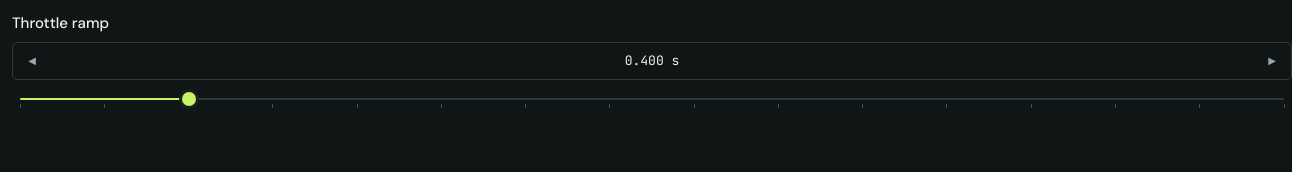
Test: LeverWidget › Esc reverts an edit
Click the button with test id "lever-value-throttle_ramp" at {"x": 652, "y": 61}, box [51, 47, 1253, 75]
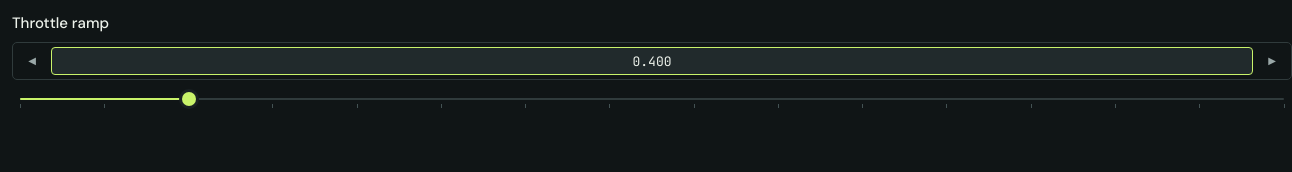
Replace the text in the field with test id "lever-input-throttle_ramp" with "2.0" at {"x": 652, "y": 61}, box [51, 47, 1253, 75]
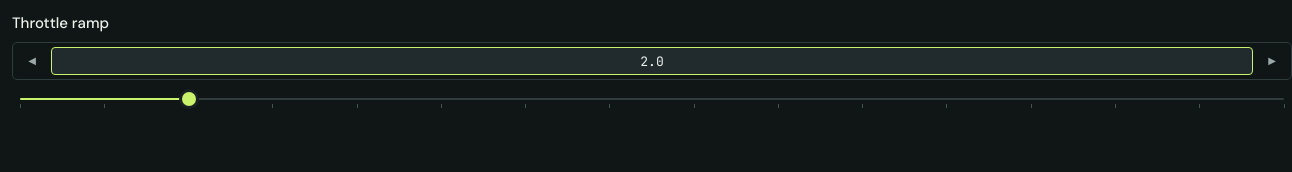
Press Escape in the field with test id "lever-input-throttle_ramp", box [51, 47, 1253, 75]
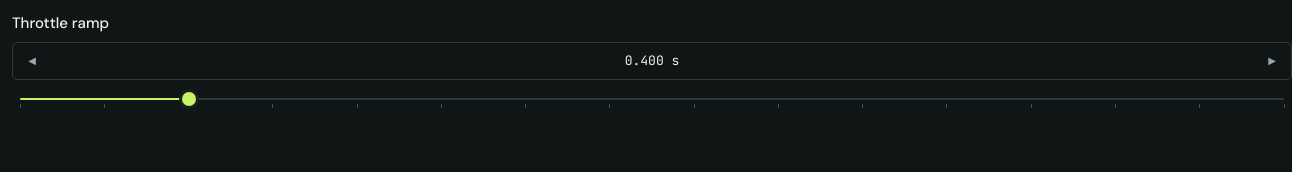
Result: the field with test id "lever-input-throttle_ramp" is gone
